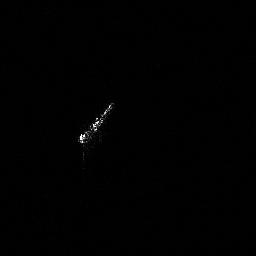ship: (77, 101, 117, 164)
